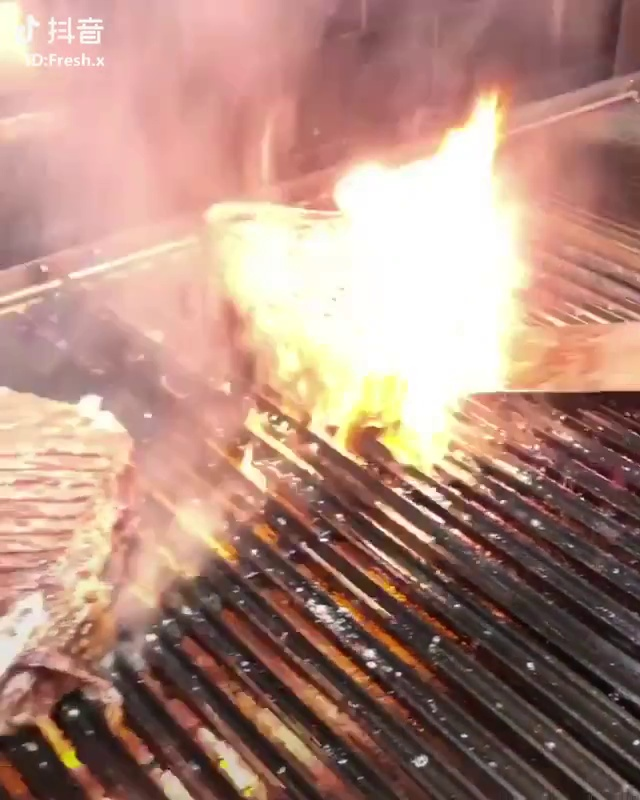fire: (235, 159, 554, 453)
